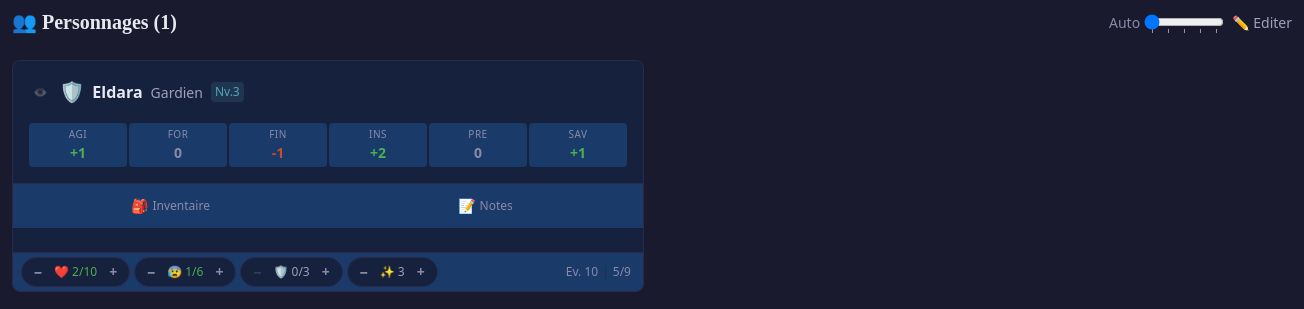
Scenario: Saisie directe HP/Stress › bascule vers un input au clic sur la valeur HP
Click the button "❤️ 2/10": (76, 272) 52,263 -> 99,281
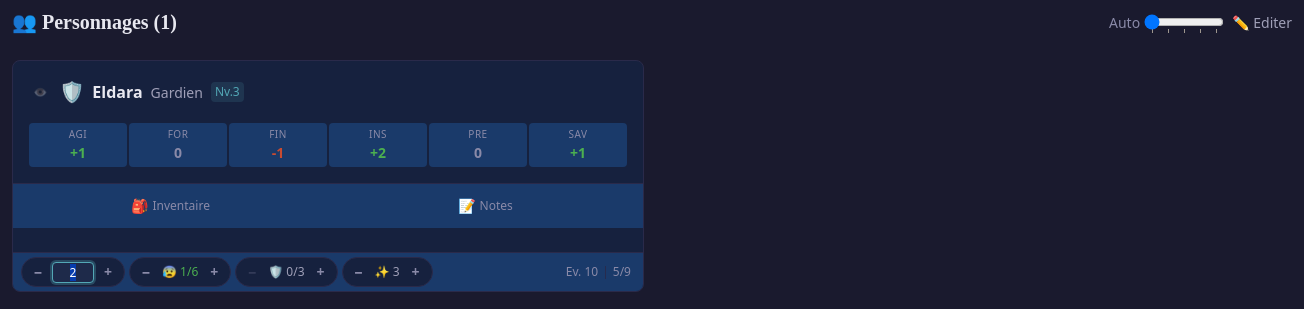
Now the number field named "Saisir les degats de Eldara" is shown, box 52,262 -> 94,282
